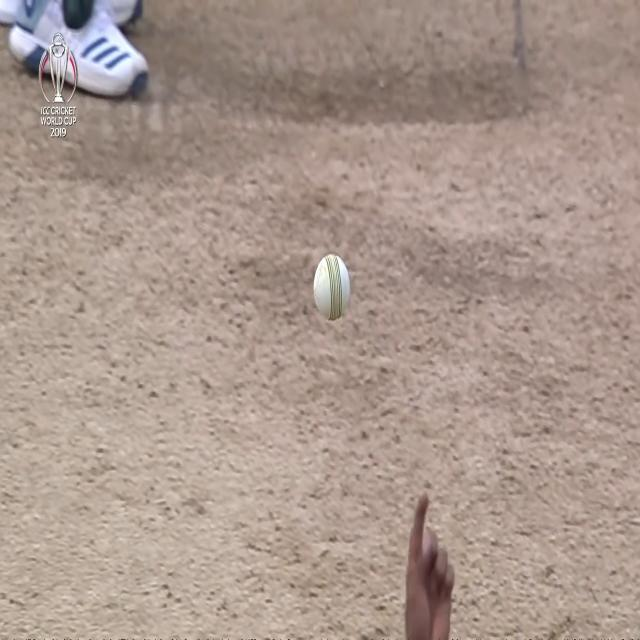Cricket ball: (312, 250, 352, 323)
